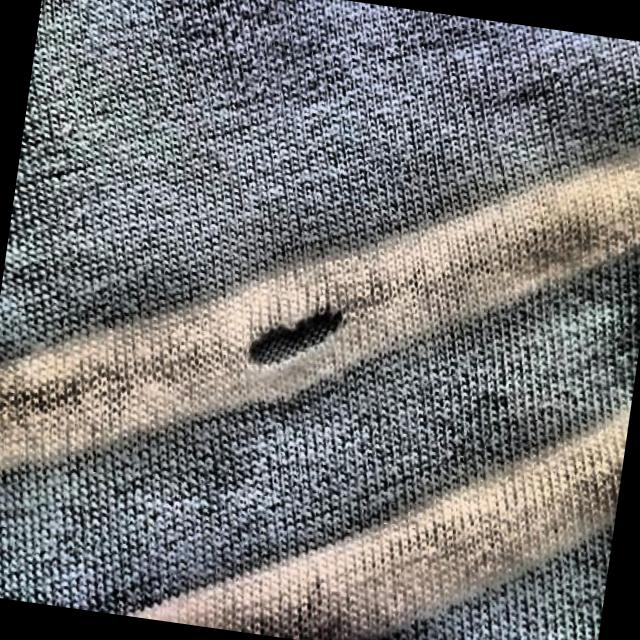cut: (241, 287, 354, 382)
